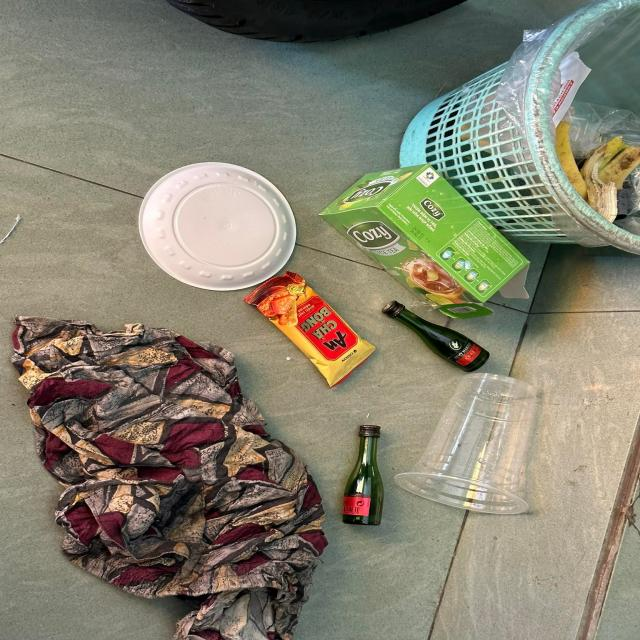bottle: (379, 302, 491, 375), (345, 429, 384, 525)
cardboard box: (323, 168, 534, 320)
clothes: (7, 315, 327, 640)
packet: (242, 274, 380, 388)
plastic glass: (397, 373, 539, 515)
plastic holder: (141, 162, 299, 294)
